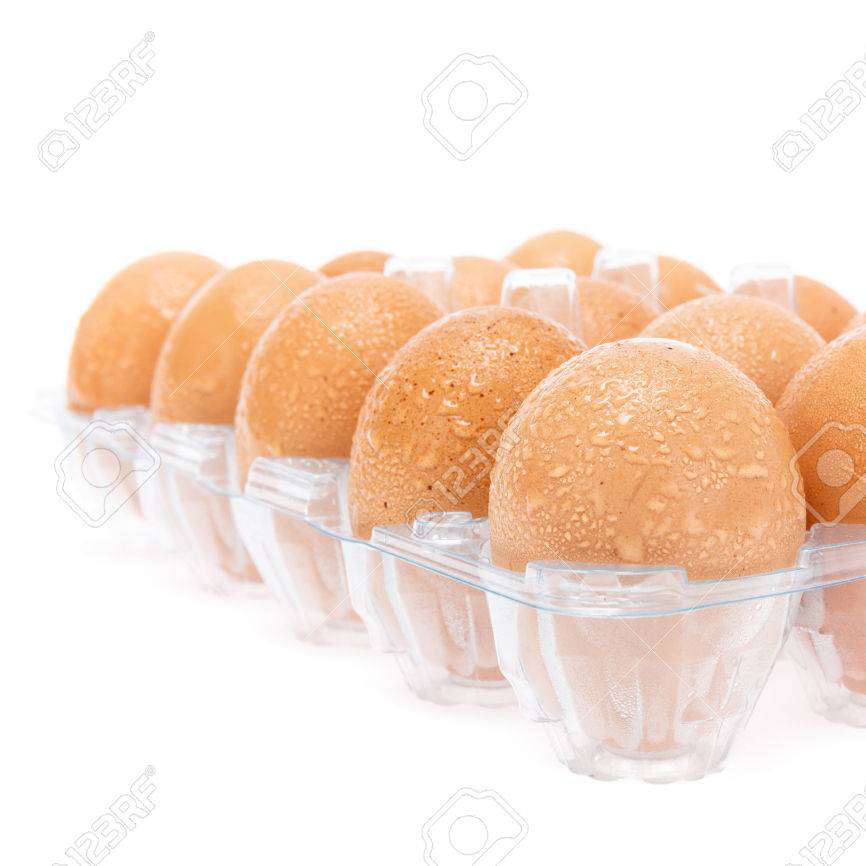egg: (66, 225, 865, 613)
